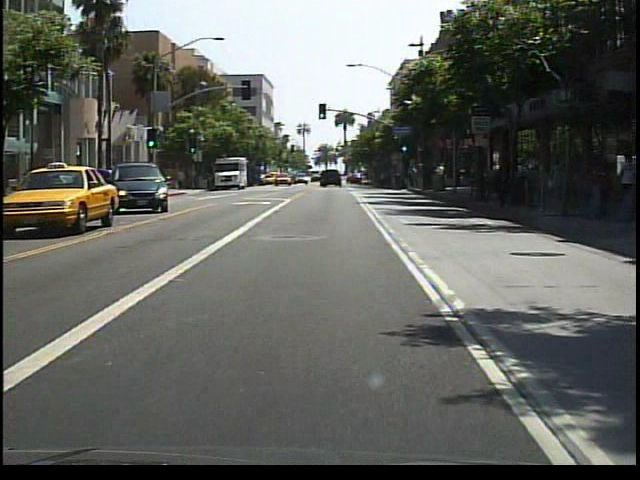person: (611, 149, 638, 189), (175, 165, 189, 191)
